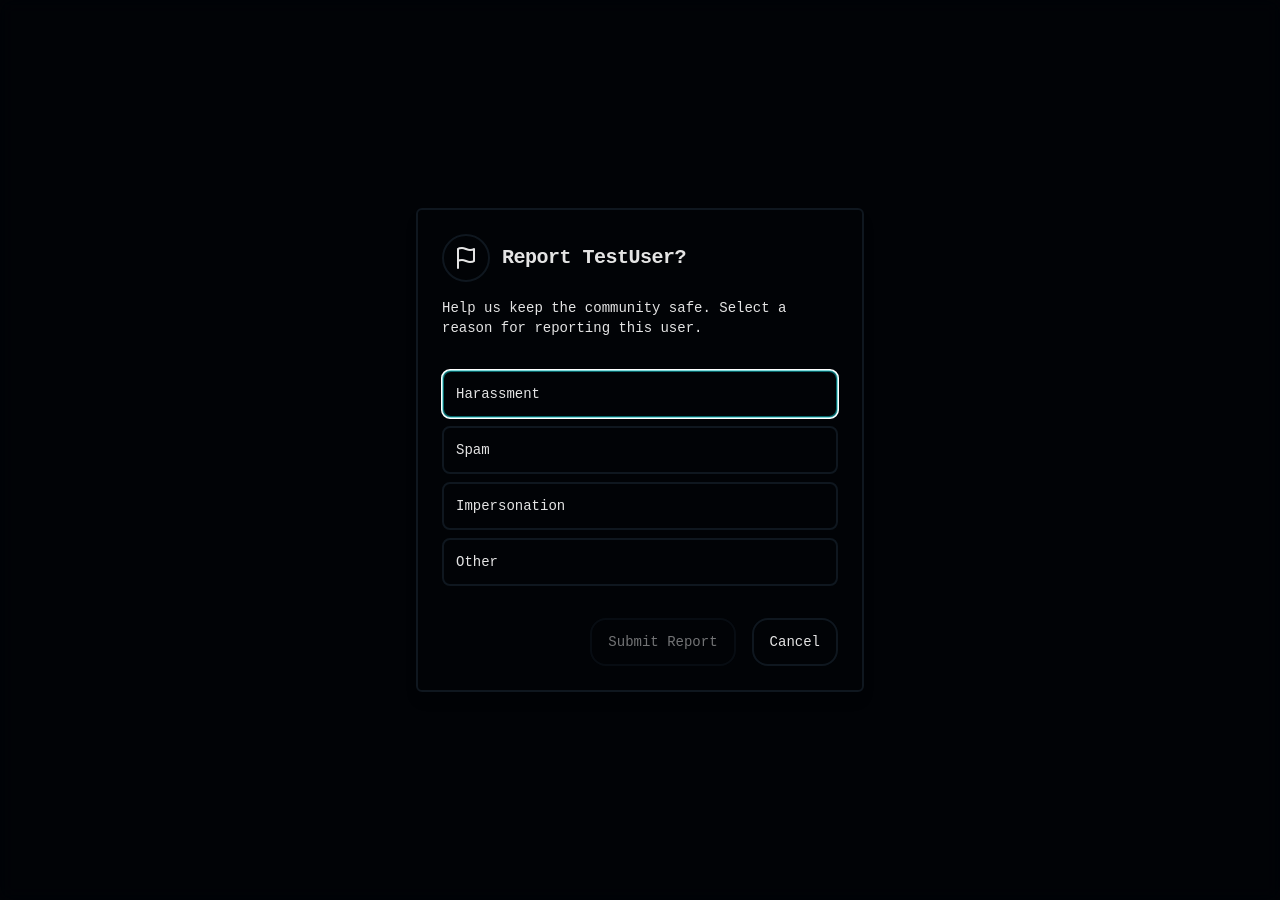
Scenario: ReportDialog › enables Submit button when category is selected
The image size is (1280, 900).
Click the button with aria-label "Select Harassment".
click(498, 394)  # box [442,370,838,418]
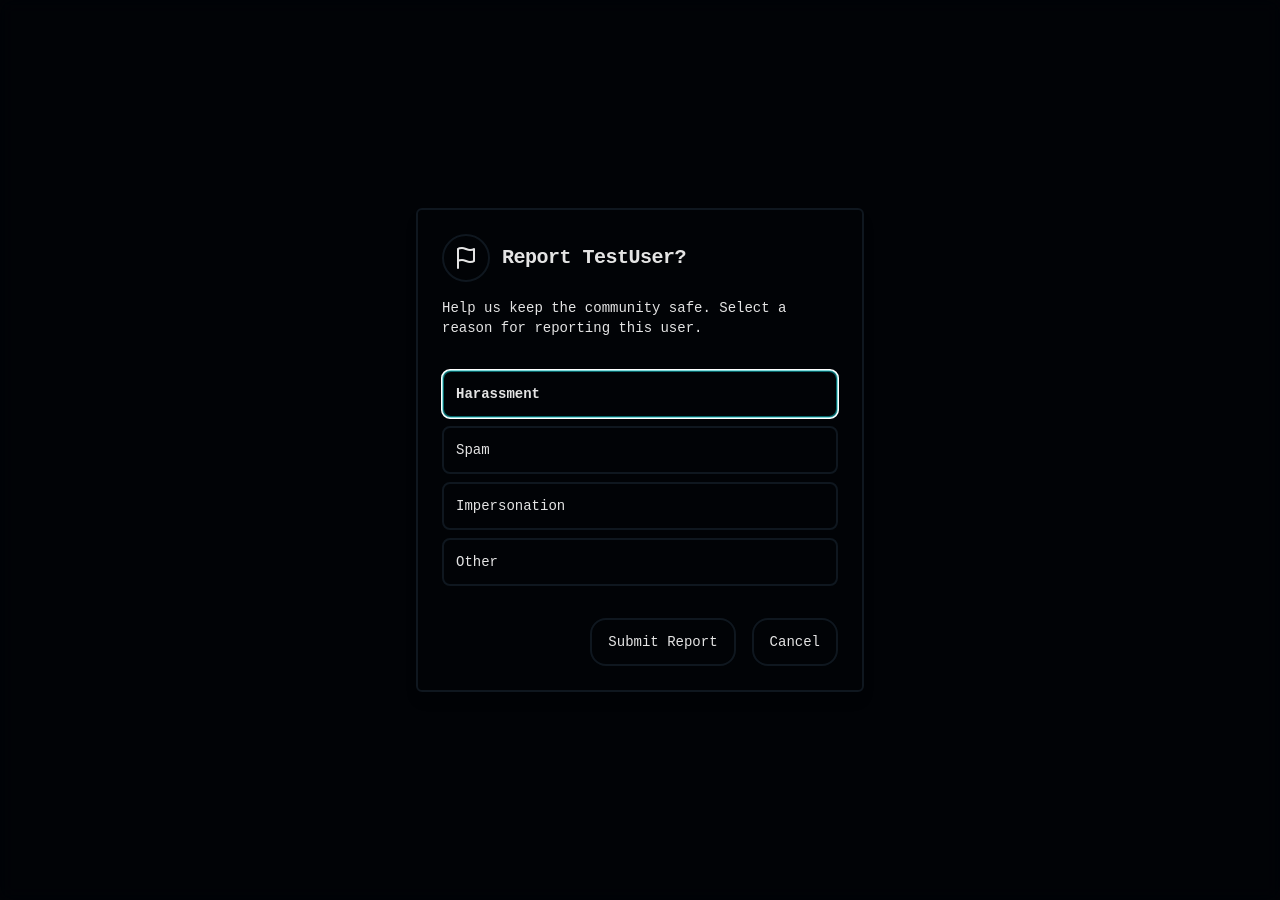
Check: the button labelled "Submit Report" is enabled, box [590,618,736,666]
